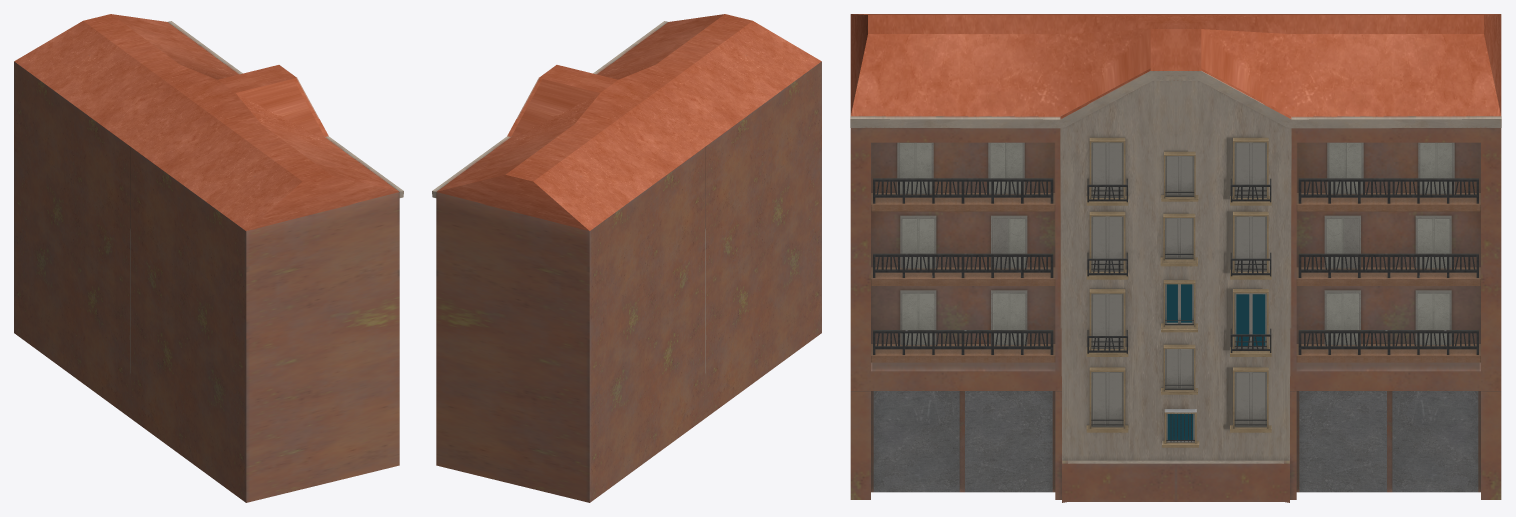
Rendered from Bat_Cite_4.2.fbx.
The picture shows the model from 3 angles, left to right: view 1: azimuth 30°, elevation 25°; view 2: azimuth 150°, elevation 25°; view 3: azimuth 270°, elevation 25°; orthographic projection. The views are drawn at different scales.
Visible parts, largest first — view 1: Bat_Cite_4.2; view 2: Bat_Cite_4.2; view 3: Bat_Cite_4.2.
Part boxes in pixels (box(x1,y1,x2,y2)): Bat_Cite_4.2: box(14, 14, 403, 502); Bat_Cite_4.2: box(432, 14, 821, 502); Bat_Cite_4.2: box(850, 14, 1501, 502).
Bounding box in the file's own units: 794 × 1432 × 1956.
